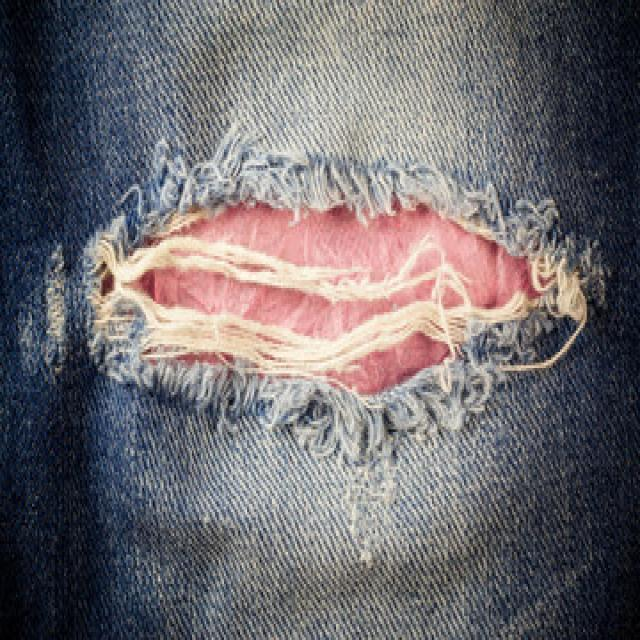Hole: (86, 150, 590, 566), (16, 244, 68, 380)
